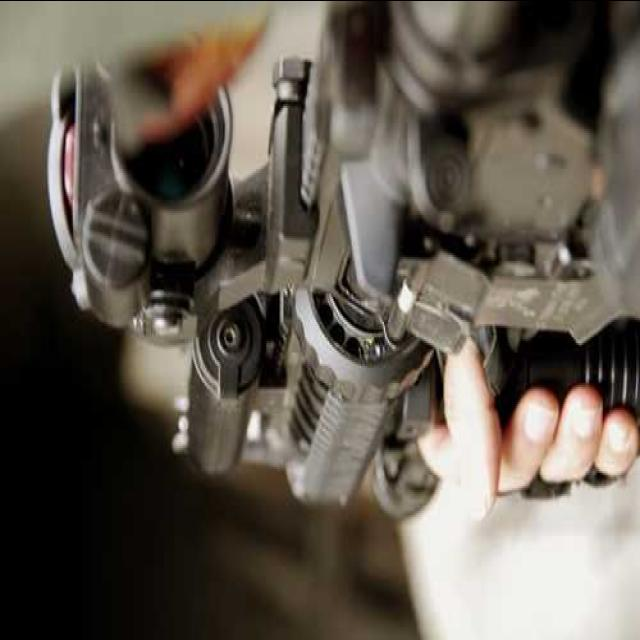heavyweapon: (25, 2, 640, 544)
